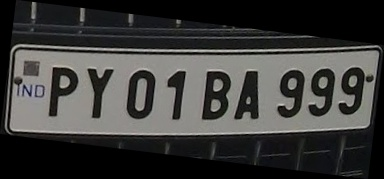character: (47, 64, 78, 118), (124, 68, 156, 119), (200, 69, 231, 120), (86, 65, 113, 119), (232, 68, 260, 120), (275, 68, 304, 118), (337, 65, 364, 115), (307, 67, 334, 116), (166, 68, 188, 121)
